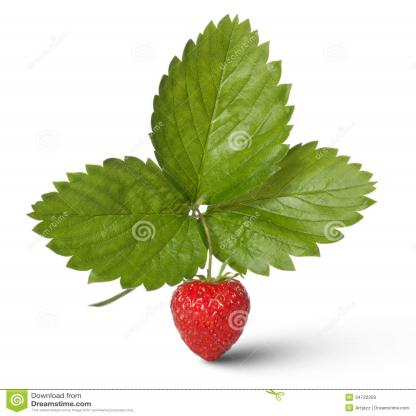Strawberry leaf: (147, 0, 300, 211), (26, 147, 210, 293), (200, 137, 381, 281)
